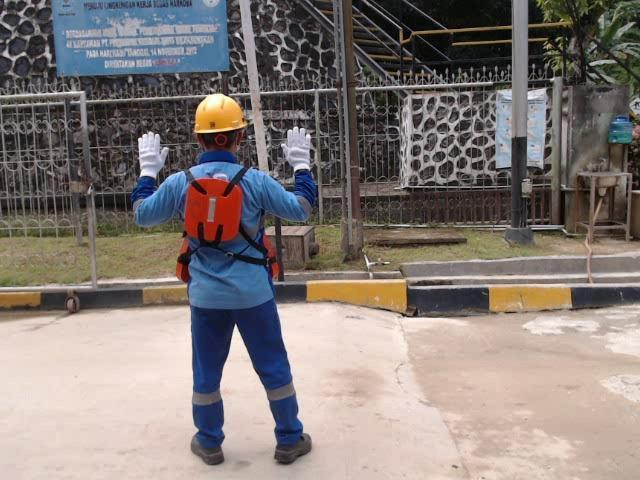vest: (180, 171, 248, 248)
